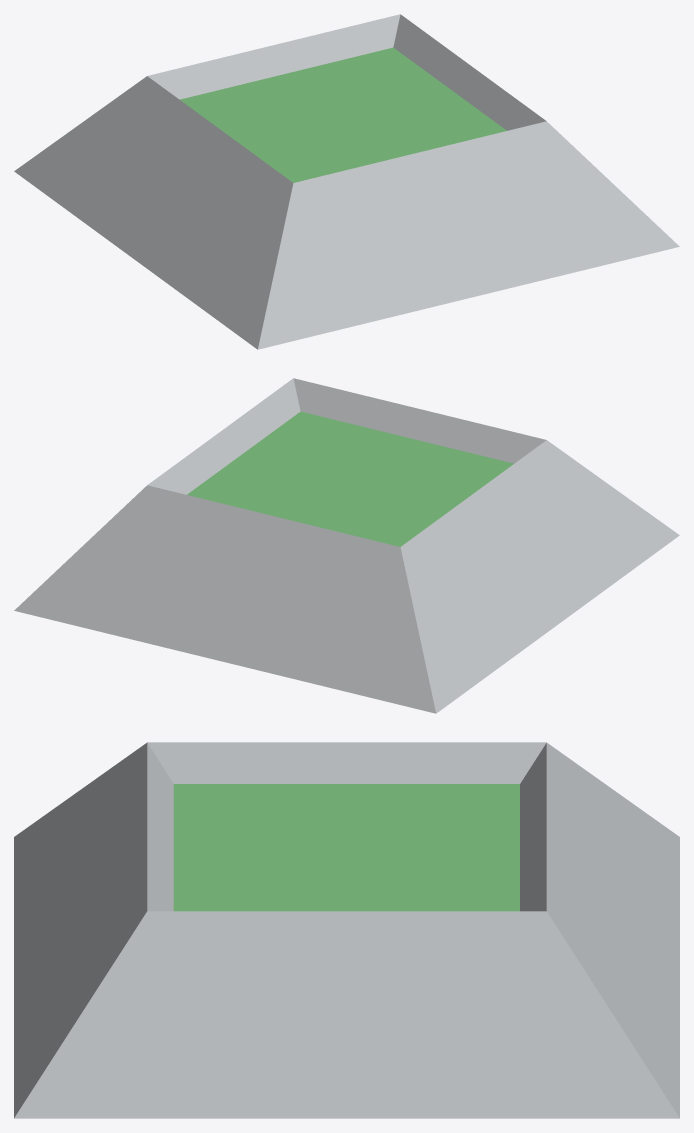
Rendered from slow_tower.glb.
3 views of the same model, one above another, from view 1: azimuth 30°, elevation 25°; view 2: azimuth 150°, elevation 25°; view 3: azimuth 270°, elevation 25° (orthographic). The views are drawn at different scales.
Visible parts, largest first — view 1: Mesh_Mesh_head_geo.001_lambert2SG.001; view 2: Mesh_Mesh_head_geo.001_lambert2SG.001; view 3: Mesh_Mesh_head_geo.001_lambert2SG.001.
Part boxes in pixels (x1=…): Mesh_Mesh_head_geo.001_lambert2SG.001: x1=14, y1=14, x2=679, y2=349; Mesh_Mesh_head_geo.001_lambert2SG.001: x1=14, y1=378, x2=679, y2=713; Mesh_Mesh_head_geo.001_lambert2SG.001: x1=14, y1=742, x2=679, y2=1118.
Bounding box in the file's own units: 100 × 25 × 100.
